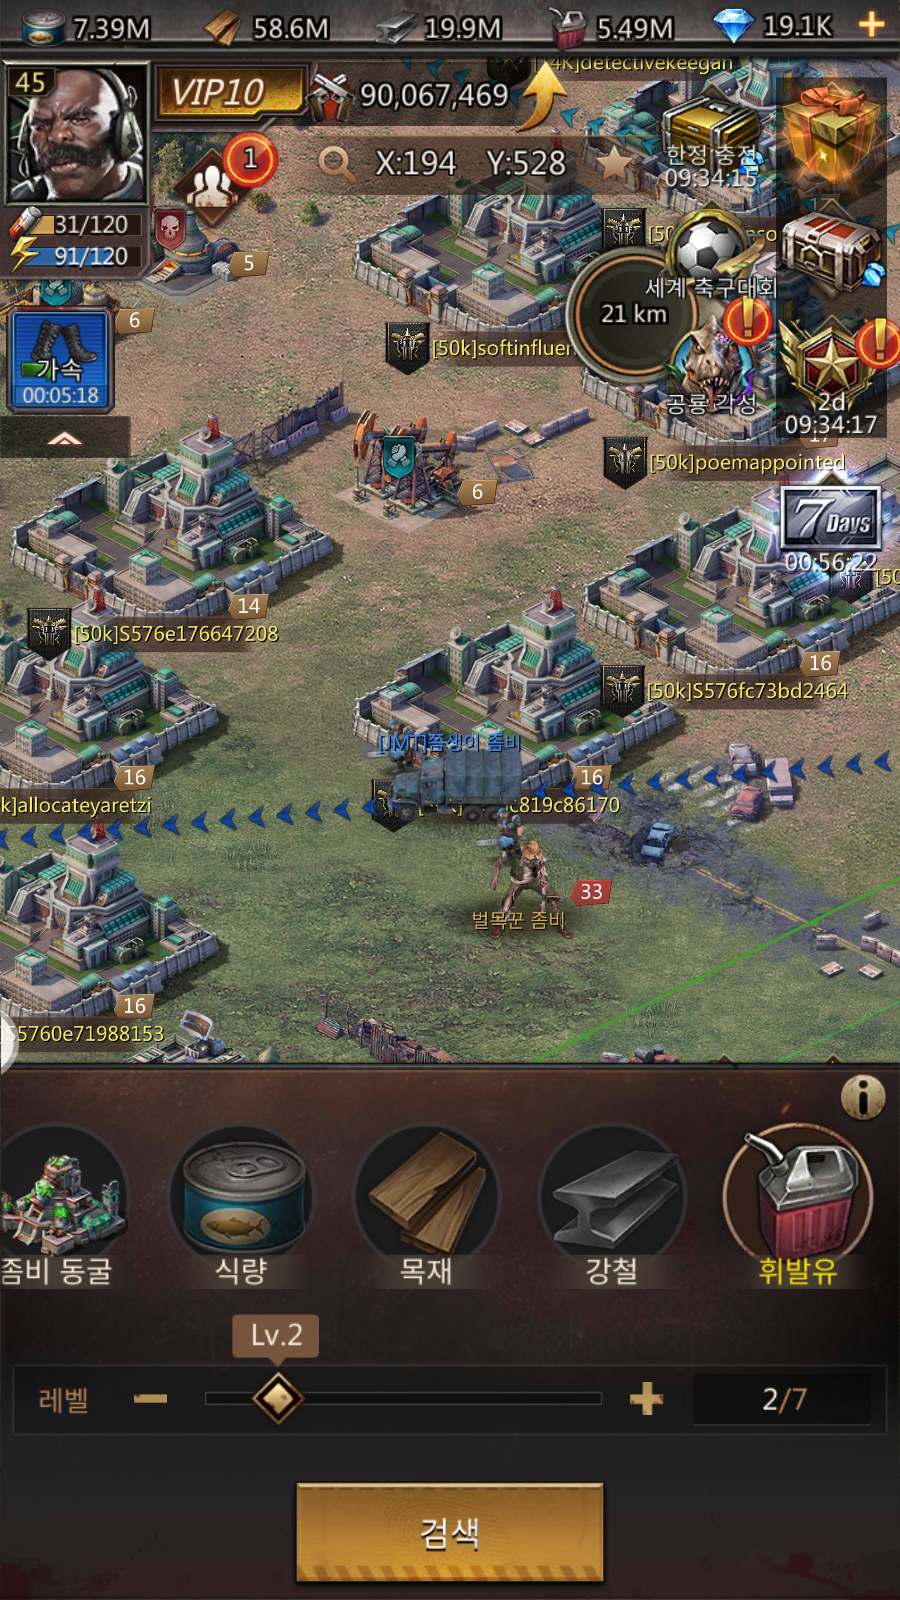rss_food_in_panel: (168, 1124, 312, 1291)
rss_gas_in_panel: (720, 1117, 880, 1298)
rss_lv2: (227, 1310, 320, 1357)
rss_minus_in_panel: (120, 1371, 180, 1420)
rss_plus_in_panel: (622, 1371, 668, 1424)
rss_search_in_panel: (295, 1483, 605, 1578)
rss_steel_in_panel: (539, 1124, 693, 1298)
rss_wood_in_panel: (356, 1125, 500, 1290)
troops_cnt_1: (161, 125, 297, 241)
